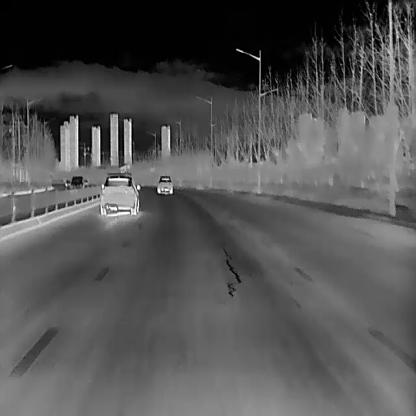car: (99, 172, 140, 216), (156, 175, 172, 193), (69, 174, 82, 189)
